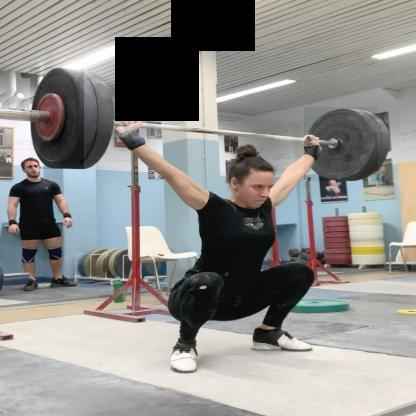barbell: (31, 68, 85, 170), (305, 108, 379, 182)
